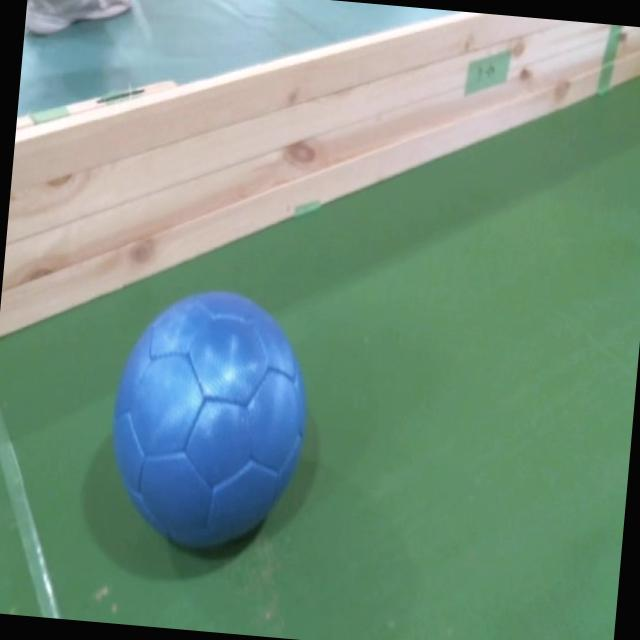blue_ball: (103, 280, 319, 560)
